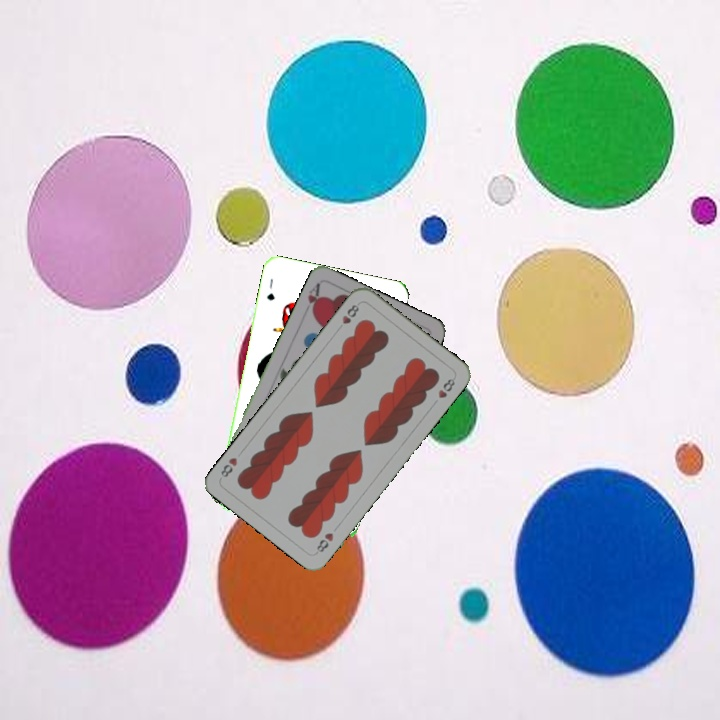GU: (262, 274, 277, 303)
H8: (333, 300, 362, 334), (312, 528, 336, 557)
HA: (300, 279, 324, 318)
